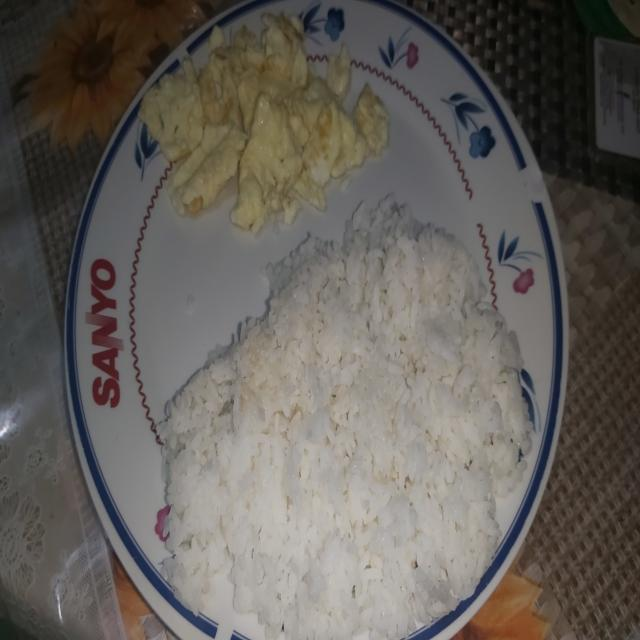Chicken -Chicken Inasal-: (190, 226, 519, 631)
